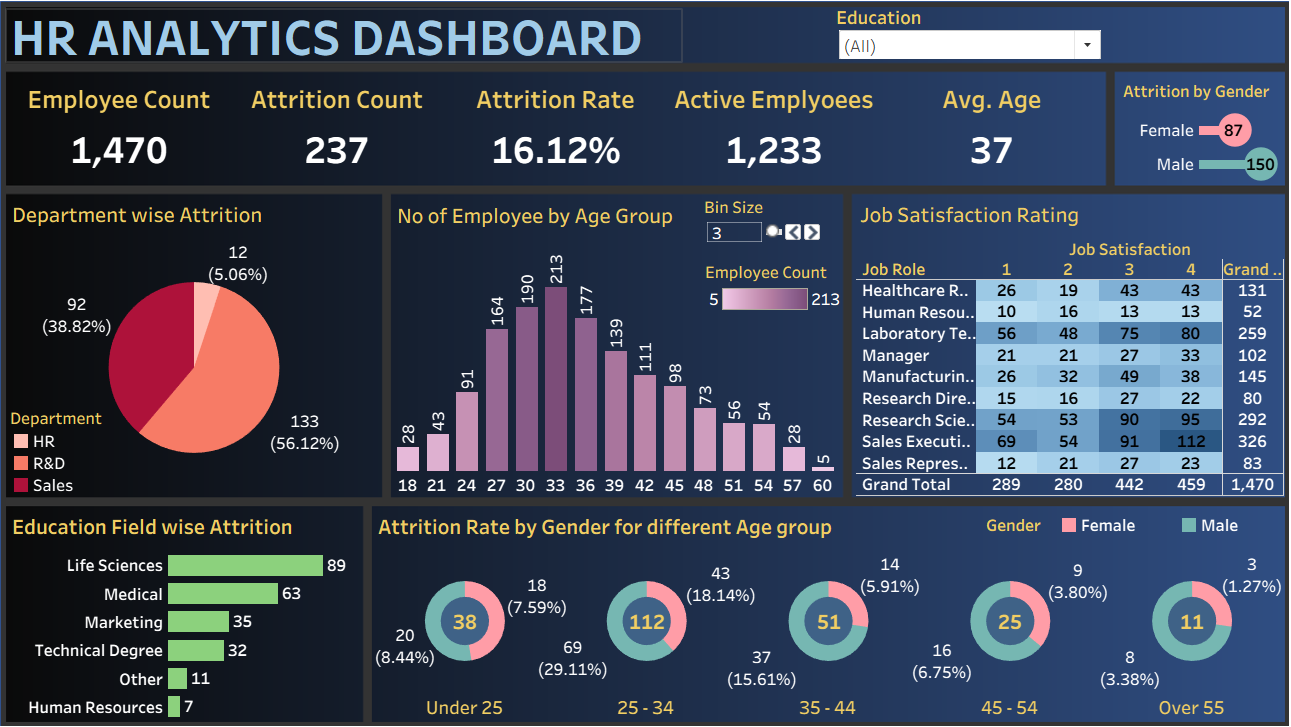

The dashboard page shown, as its layout file describes it:
{"tool":"tableau","page":{"name":"HR ANALYSTICS DASHBOARD","canvas":[1420,750],"ordinal":0},"visuals":[{"type":"image","param":"C:/Users/sonaw/Downloads/HR background.png","box":[8,8,1404,734]},{"type":"filter","title":"Department wise Attrition","param":"[federated.04x46j914rvuxo10kjat41e0e57c].[none:Education:nk]","box":[901,15,268,55]},{"type":"text","box":[72,21,674,51]},{"type":"worksheet","title":"KPI","mark":"Automatic","box":[75,86,1091,108]},{"type":"worksheet","title":"Attrition by Gender","mark":"Automatic","rows":["Gender"],"cols":["Calculation_1216534891020206080","Calculation_1216534891020206080"],"box":[1184,87,162,105]},{"type":"worksheet","title":"Department wise Attrition","mark":"Pie","box":[73,207,372,300]},{"type":"parameter","param":"[Parameters].[Parameter 1]","box":[769,207,119,51]},{"type":"worksheet","title":"Job Satisfaction Rating","mark":"Square","rows":["Job Role"],"cols":["Job Satisfaction"],"box":[921,207,428,300]},{"type":"worksheet","title":"No of Employee by Age Group","mark":"Automatic","rows":["Employee Count"],"cols":["Age (bin)"],"box":[458,208,445,300]},{"type":"legend","title":"No of Employee by Age Group","param":"[federated.04x46j914rvuxo10kjat41e0e57c].[sum:Employee Count:qk]","box":[770,272,140,58]},{"type":"legend","title":"Department wise Attrition","param":"[federated.04x46j914rvuxo10kjat41e0e57c].[none:Department:nk]","box":[75,418,96,89]},{"type":"worksheet","title":"Education Field wise Attrition","mark":"Automatic","rows":["Education Field"],"cols":["Calculation_1216534891020206080"],"box":[73,519,352,213]},{"type":"worksheet","title":"Attrition Rate by Gender for different Age group","mark":"Pie","rows":["Calculation_584060619787952130","Calculation_584060619787952130"],"cols":["CF_age band"],"box":[439,519,909,212]},{"type":"legend","title":"Attrition Rate by Gender for different Age group","param":"[federated.04x46j914rvuxo10kjat41e0e57c].[none:Gender:nk]","box":[1051,525,325,29]}]}

Visuals, with their boxes on the page's 1420x750 design canvas (x1, y1, x2, y2). These are canvas units, not pixel positions in the 1291x727 screenshot, which may show the page scaled, cropped or inside an application window:
image: rect(8, 8, 1412, 742)
"Department wise Attrition" filter: rect(901, 15, 1169, 70)
text: rect(72, 21, 746, 72)
"KPI" worksheet: rect(75, 86, 1166, 194)
"Attrition by Gender" worksheet: rect(1184, 87, 1346, 192)
"Department wise Attrition" worksheet (Pie marks): rect(73, 207, 445, 507)
parameter: rect(769, 207, 888, 258)
"Job Satisfaction Rating" worksheet (Square marks): rect(921, 207, 1349, 507)
"No of Employee by Age Group" worksheet: rect(458, 208, 903, 508)
"No of Employee by Age Group" legend: rect(770, 272, 910, 330)
"Department wise Attrition" legend: rect(75, 418, 171, 507)
"Education Field wise Attrition" worksheet: rect(73, 519, 425, 732)
"Attrition Rate by Gender for different Age group" worksheet (Pie marks): rect(439, 519, 1348, 731)
"Attrition Rate by Gender for different Age group" legend: rect(1051, 525, 1376, 554)
